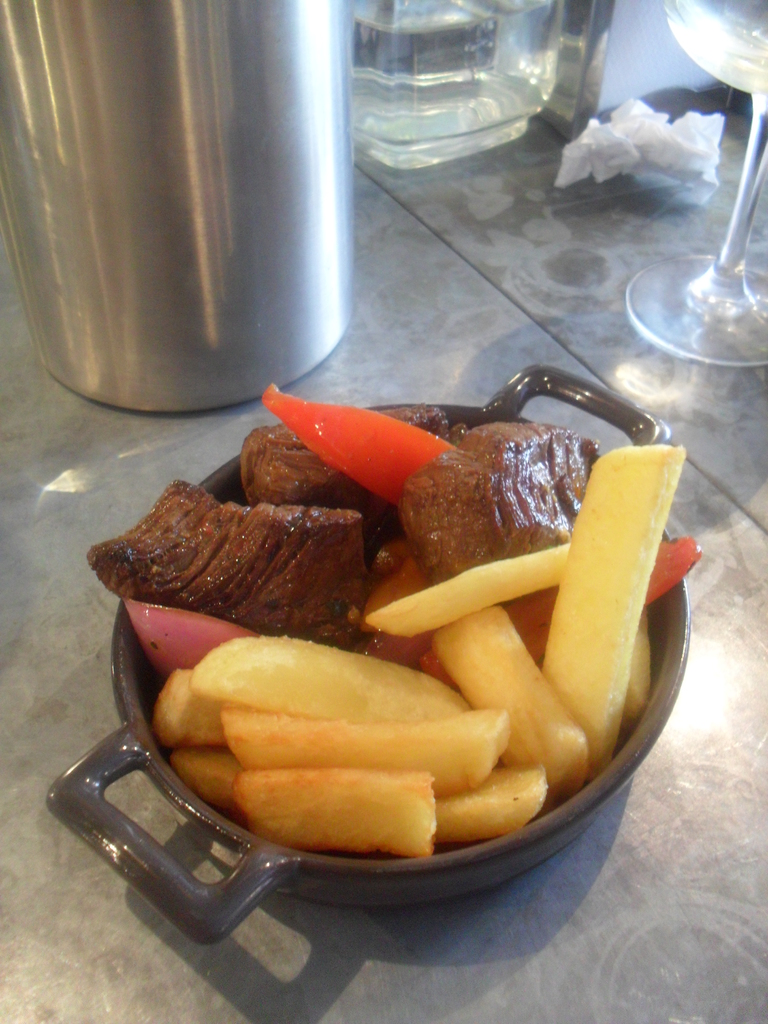French fries: (245, 432, 704, 816)
